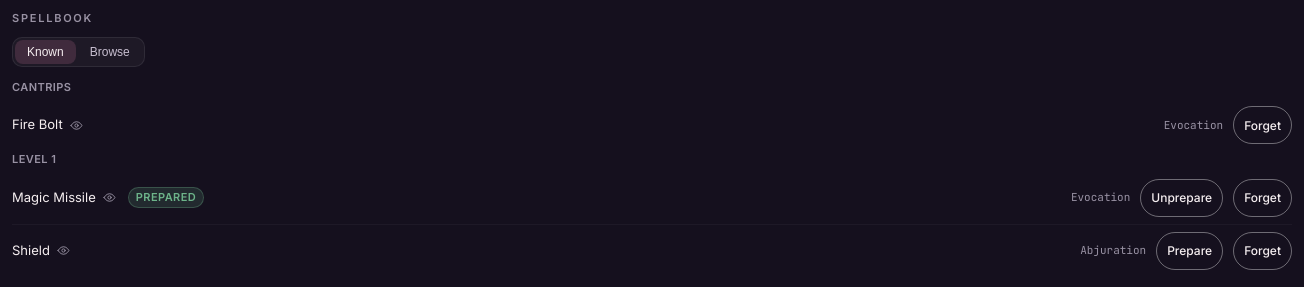
Scenario: SpellbookPanel — Browse tab: lazy load + learn wiring › a spell already in_repertoire shows a "known" pill instead of a Learn button
The width and height of the screenshot is (1304, 287).
Click the tab "Browse".
click(110, 52)  # box [78,40,142,64]
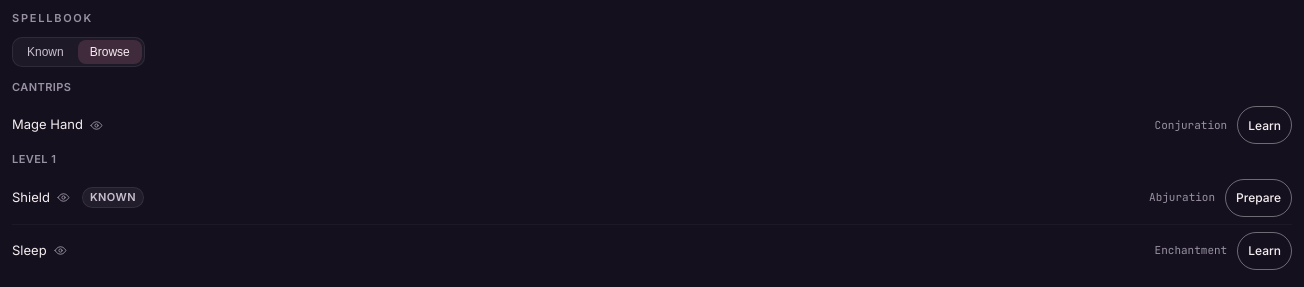
Now the text "known" is shown, box [82,187,144,208]
